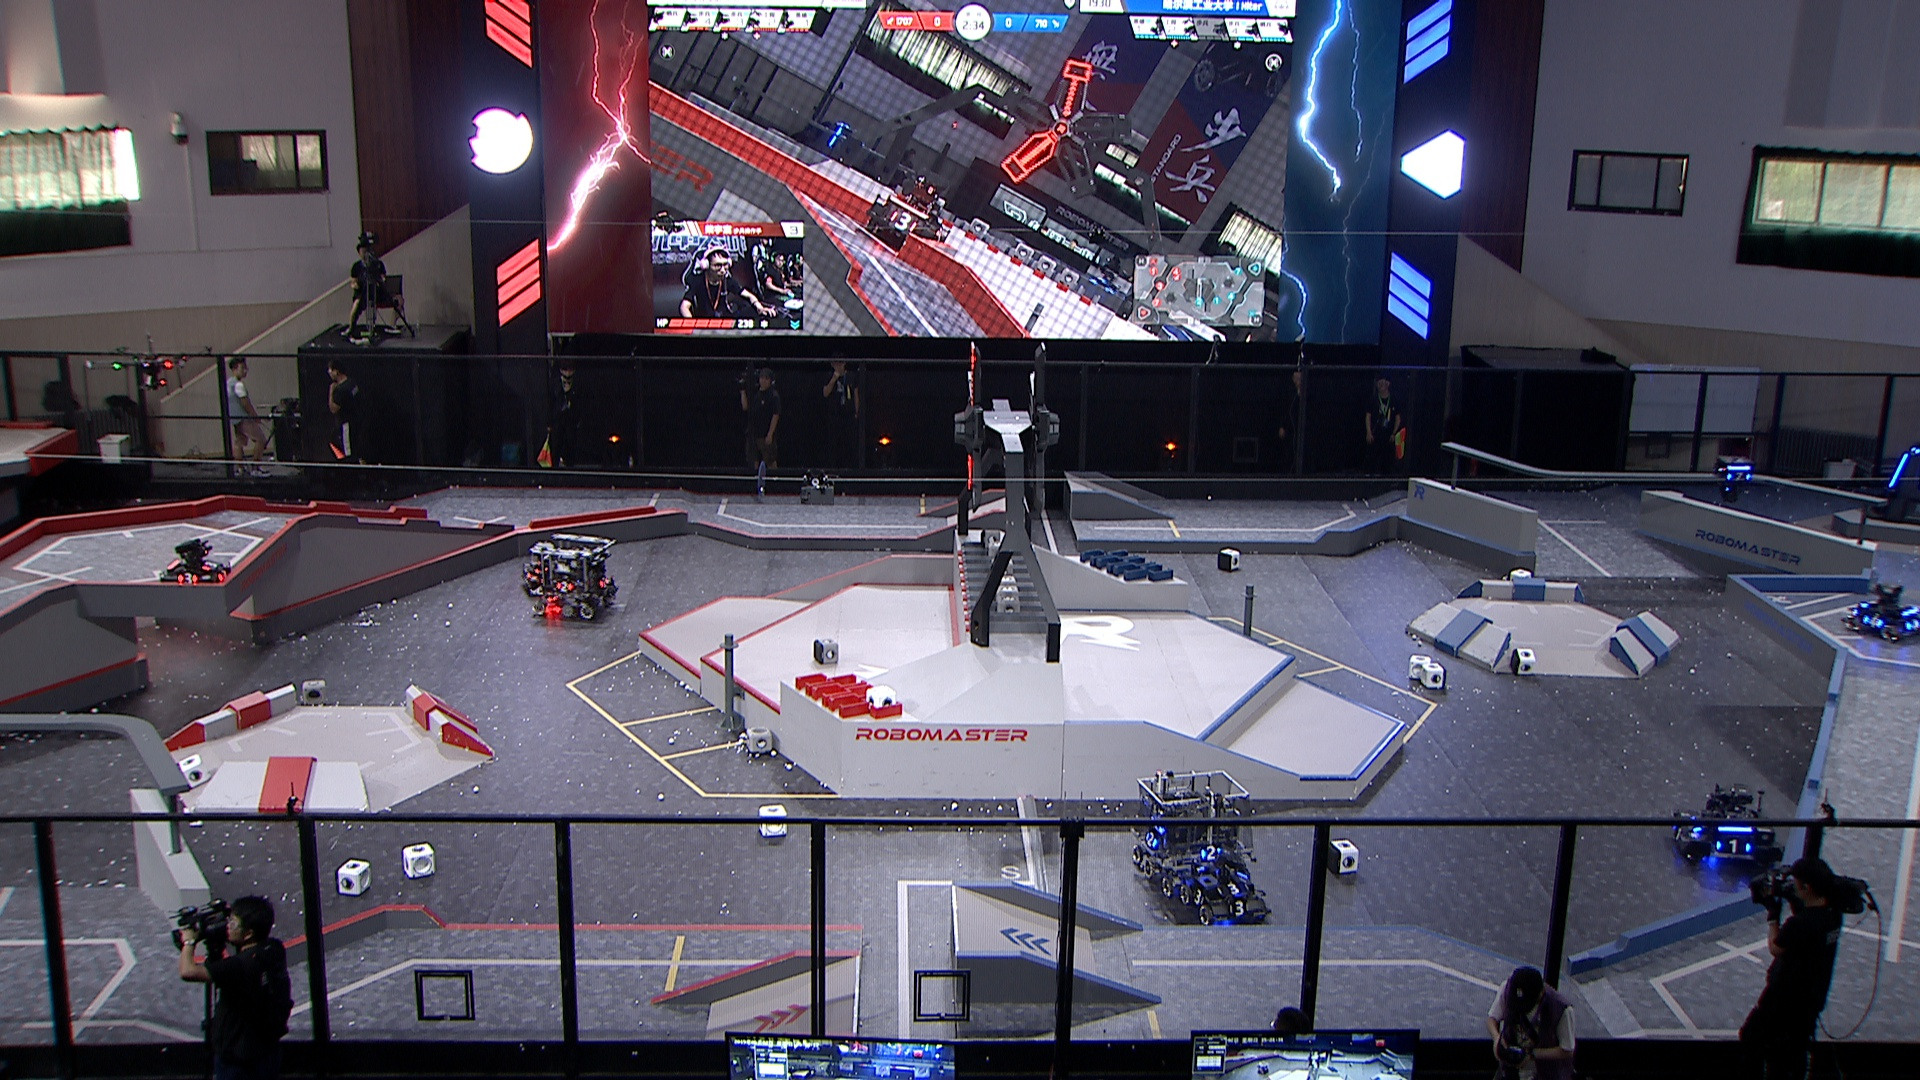armor: (1888, 452, 1911, 487), (1716, 837, 1753, 856), (1215, 880, 1250, 898), (1199, 844, 1224, 862), (1724, 469, 1753, 484), (174, 571, 200, 585), (1189, 885, 1207, 906), (1229, 901, 1250, 916), (1145, 831, 1160, 851), (1673, 823, 1688, 844), (215, 564, 233, 580), (1863, 616, 1884, 629), (1904, 618, 1920, 636), (200, 559, 222, 571), (556, 580, 575, 593), (597, 575, 613, 589)
base: (1865, 444, 1920, 527)
car: (1127, 770, 1257, 901), (1673, 789, 1784, 870), (531, 531, 618, 622), (1178, 851, 1273, 927), (1844, 582, 1920, 645), (160, 535, 235, 593), (522, 541, 585, 597)
ignore: (864, 178, 945, 252), (790, 120, 861, 169), (1091, 272, 1120, 295)
watcher: (1717, 455, 1754, 502)
